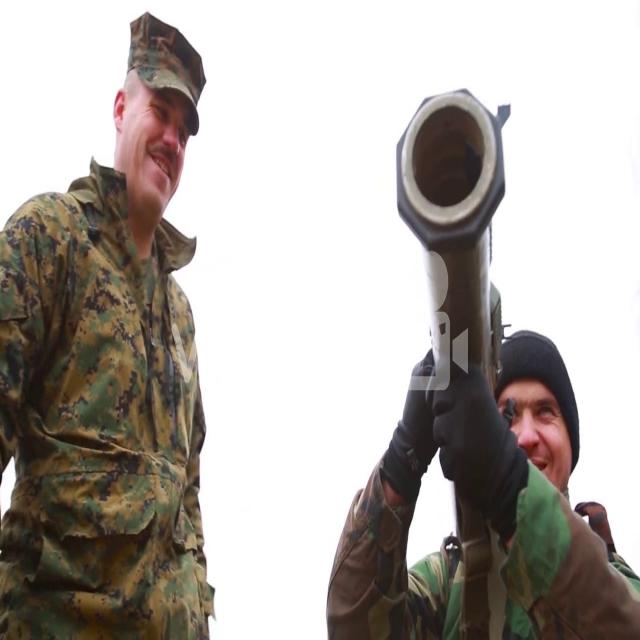bazooka: (386, 55, 510, 586)
